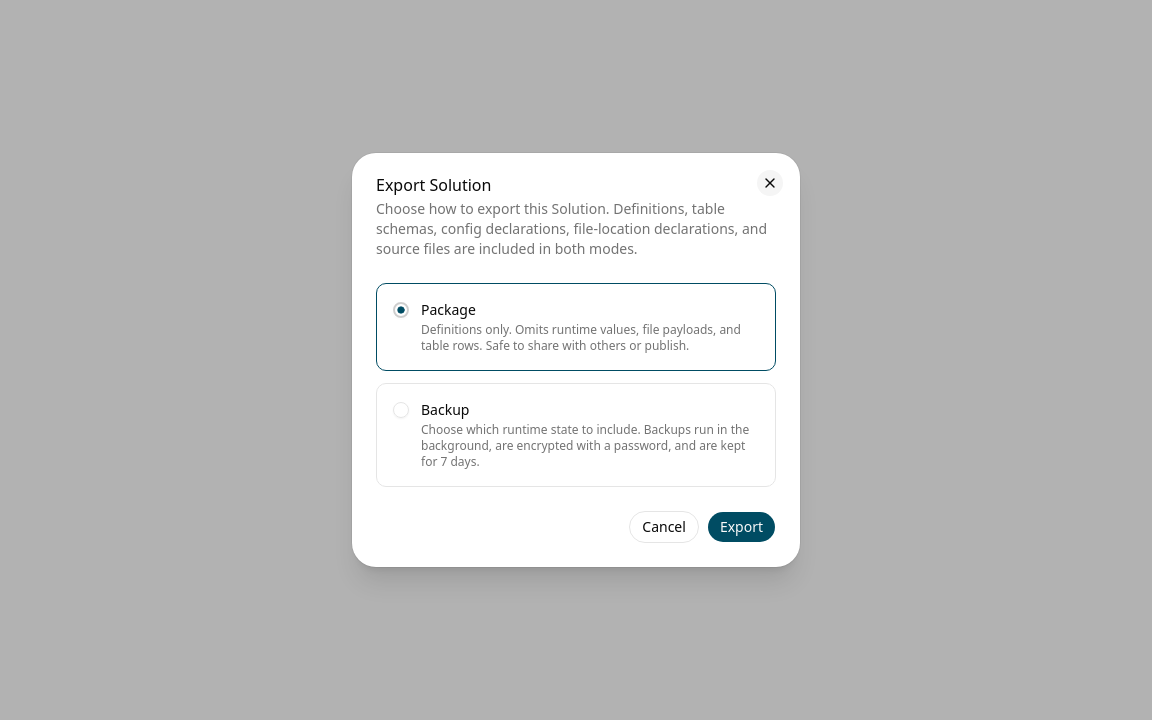
Export button is disabled when Backup is selected but password is empty
Click the radio button named "backup".
click(401, 410)  # box [393, 402, 409, 418]
(page scrolled)
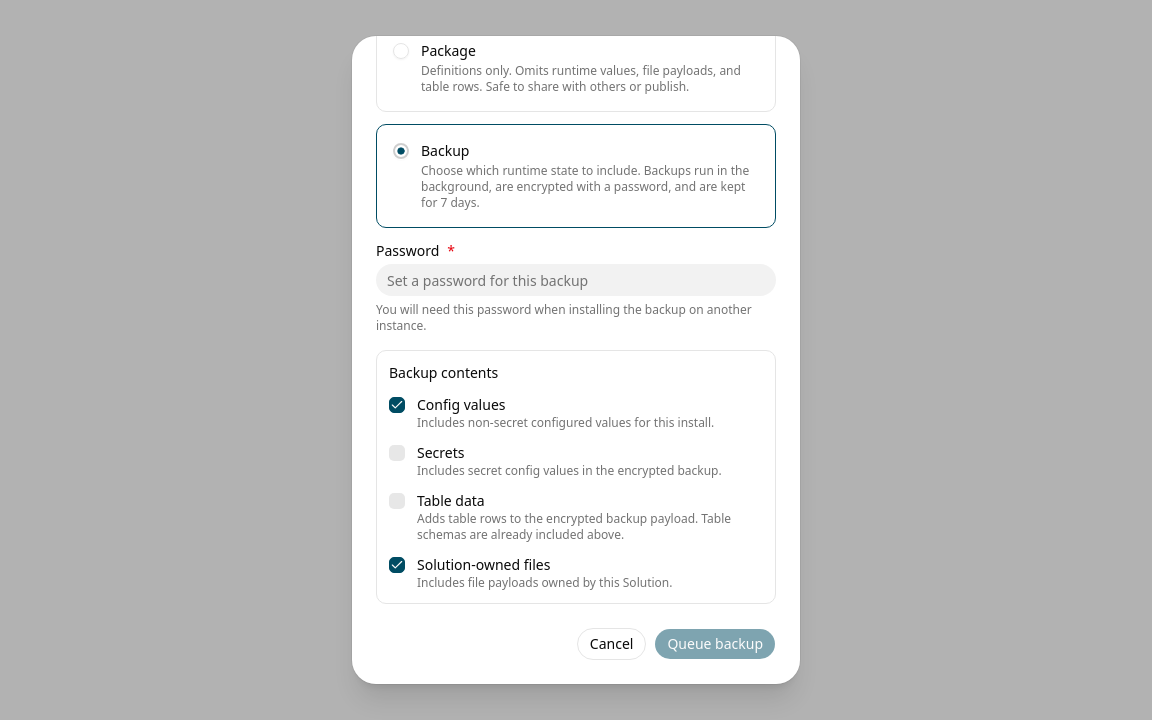
Now the button "Queue backup" is disabled, box [654, 628, 776, 660]
